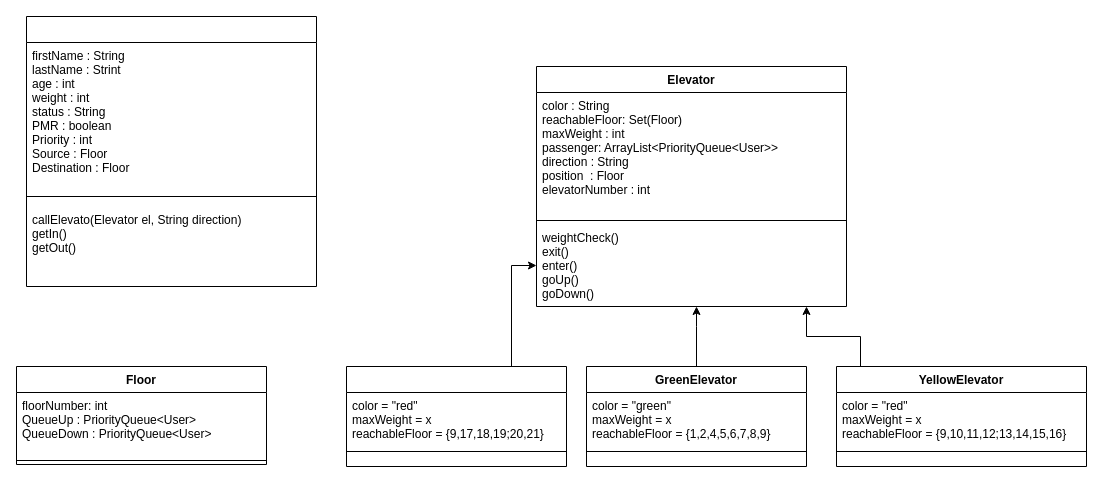
The diagram is 1103 pixels wide and 483 high, and some of its shapes have lost their labels. The shapes that lost their labels are listed below. From the top down, each one's box as (x1, y1, x2, y2) in pixels, then its label:
(26, 16, 316, 286): User
(346, 366, 566, 466): RedElevator
